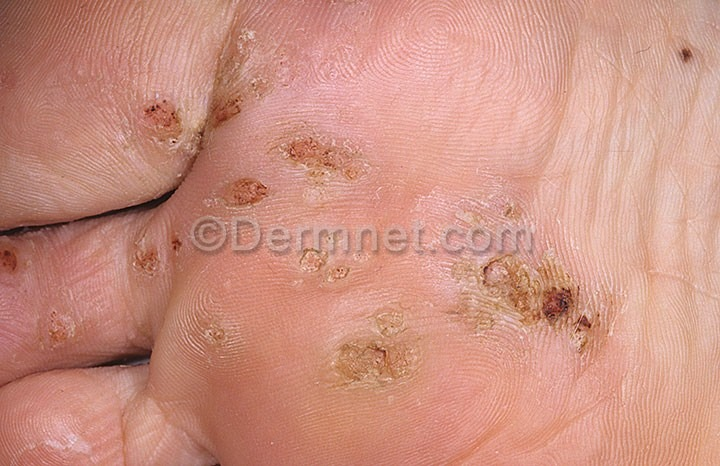Warts: (475, 256, 619, 355), (325, 290, 430, 397), (275, 119, 372, 200), (126, 89, 195, 150), (206, 167, 270, 215), (42, 300, 87, 360)
